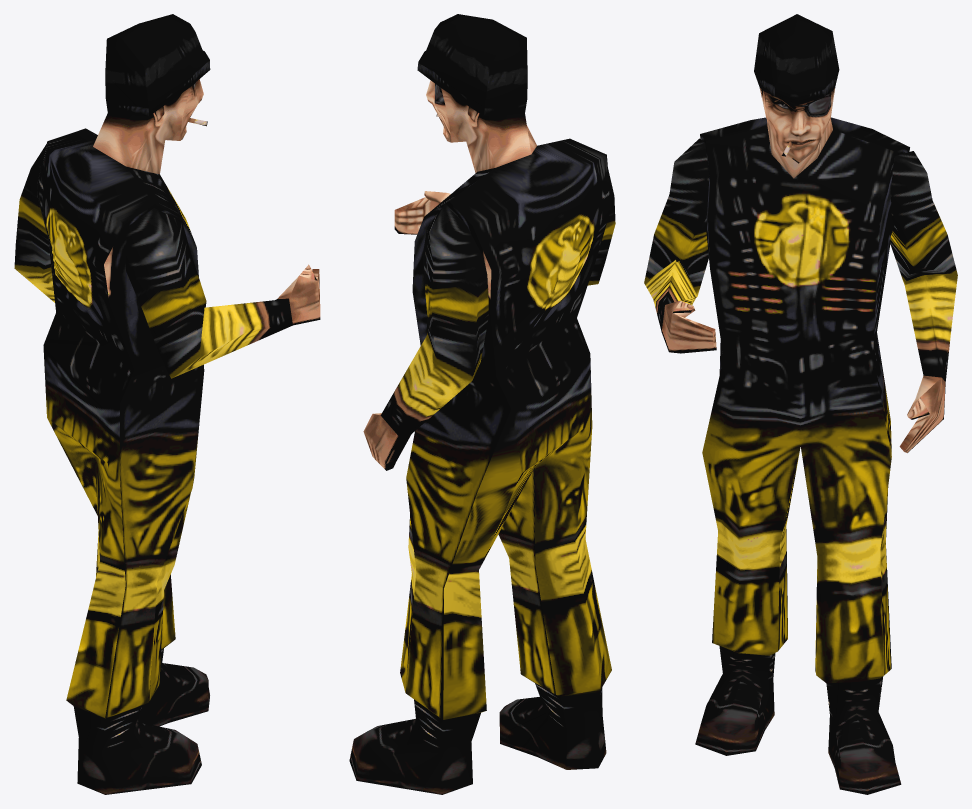
Rendered from demo2_yellow.glb.
3 views of the same model, side by side, from view 1: azimuth 30°, elevation 25°; view 2: azimuth 150°, elevation 25°; view 3: azimuth 270°, elevation 25° (orthographic). The views are drawn at different scales.
Parts seen in each view (by area): view 1: demo2; view 2: demo2; view 3: demo2.
Part boxes in pixels (left/top/right/bottom): demo2: left=14, top=14, right=320, bottom=794; demo2: left=349, top=14, right=615, bottom=794; demo2: left=644, top=14, right=957, bottom=794.
Bounding box in the file's own units: 24.4 × 74.36 × 28.94.
Materials: 1 (1 with a texture image).
